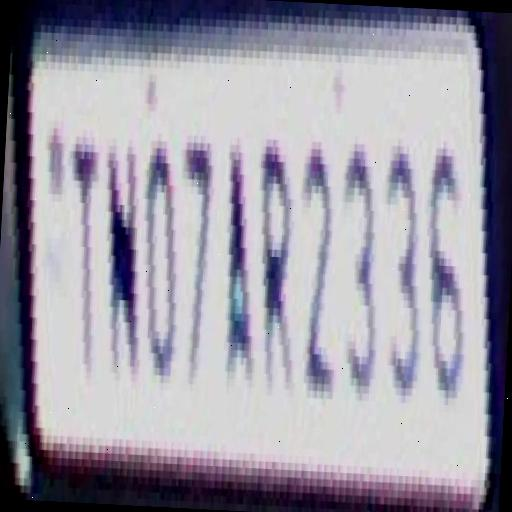number plate: (0, 0, 498, 494)
